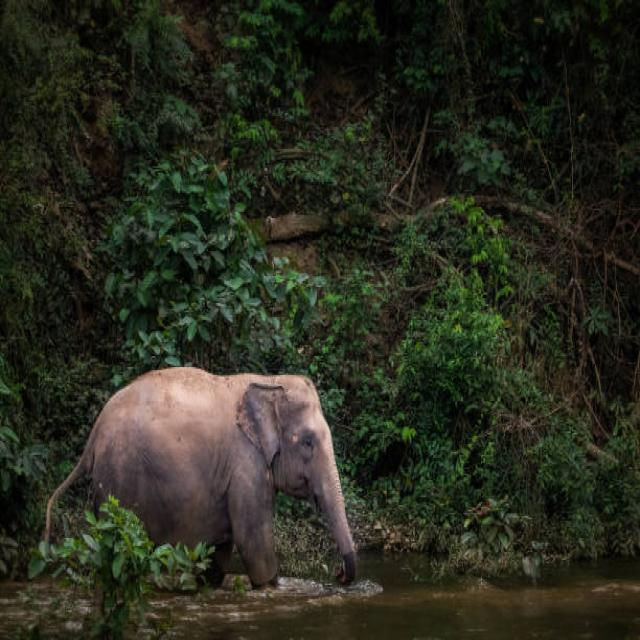Elephant: (65, 354, 365, 594)
